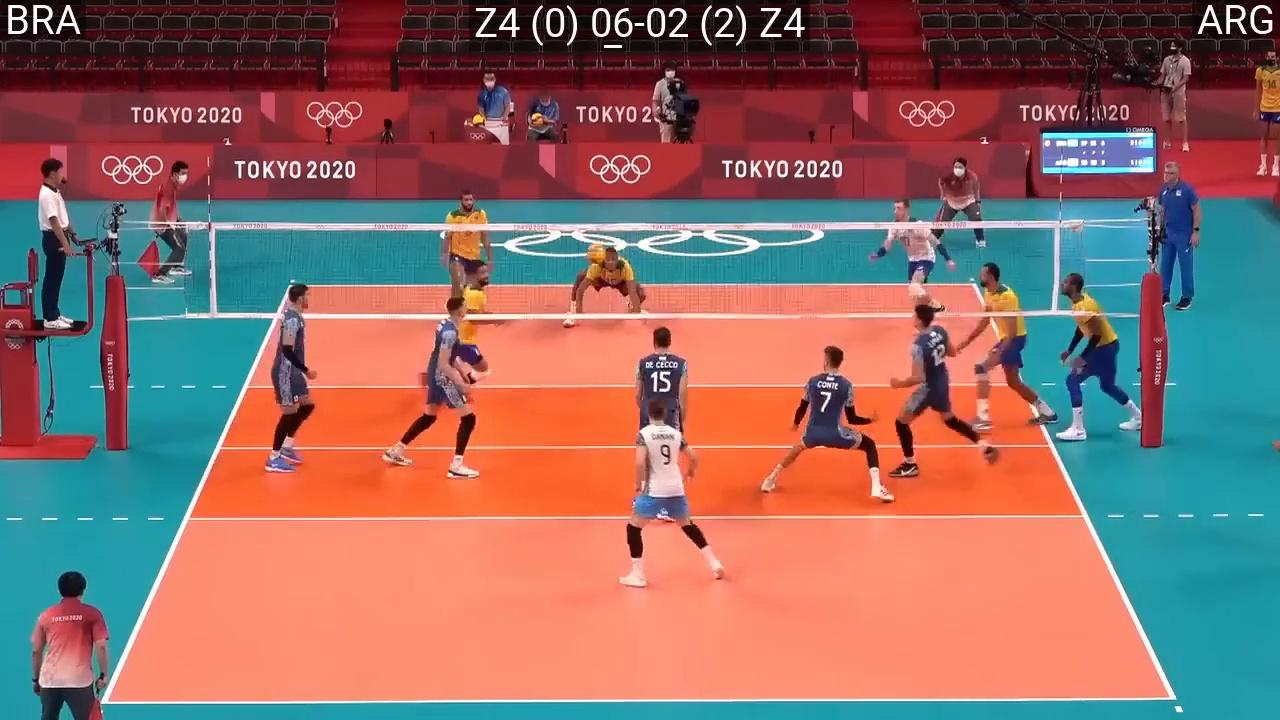ball: (587, 244, 606, 264)
